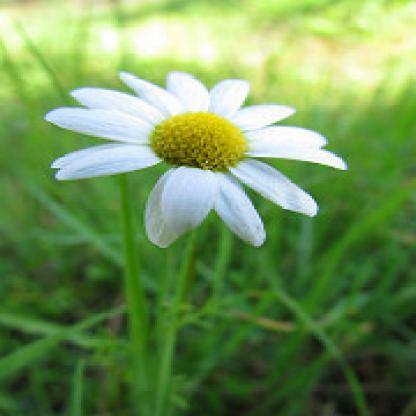ASTER: (17, 36, 362, 270)
